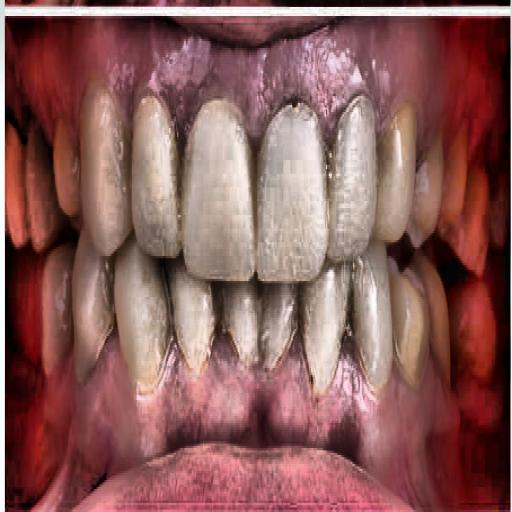Gingivitis: (28, 340, 464, 498), (27, 16, 462, 168)
